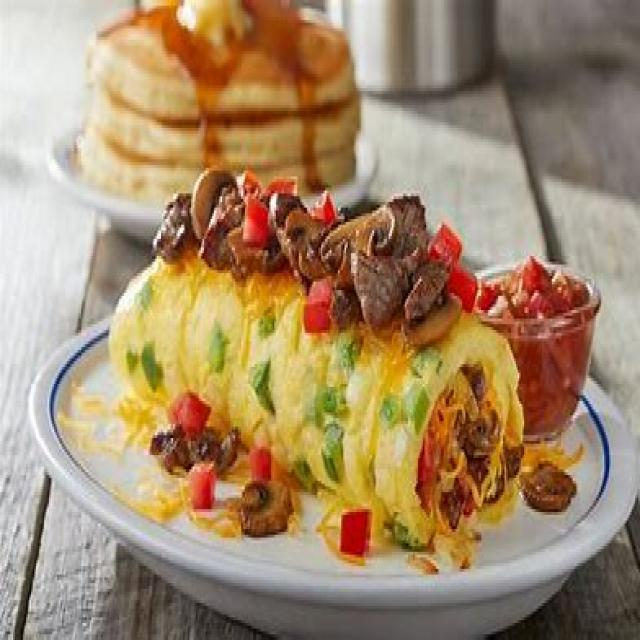Omelette: (111, 273, 514, 566)
Pancakes: (80, 12, 358, 196)
